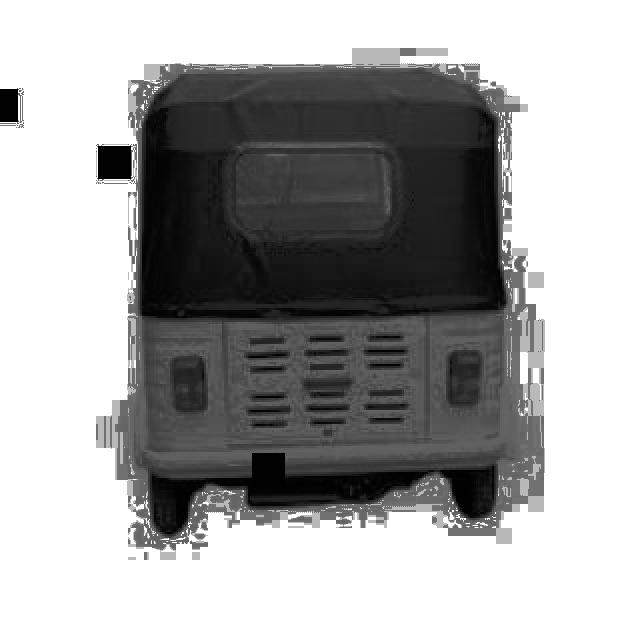Auto-Rickshaw: (134, 72, 502, 524)
